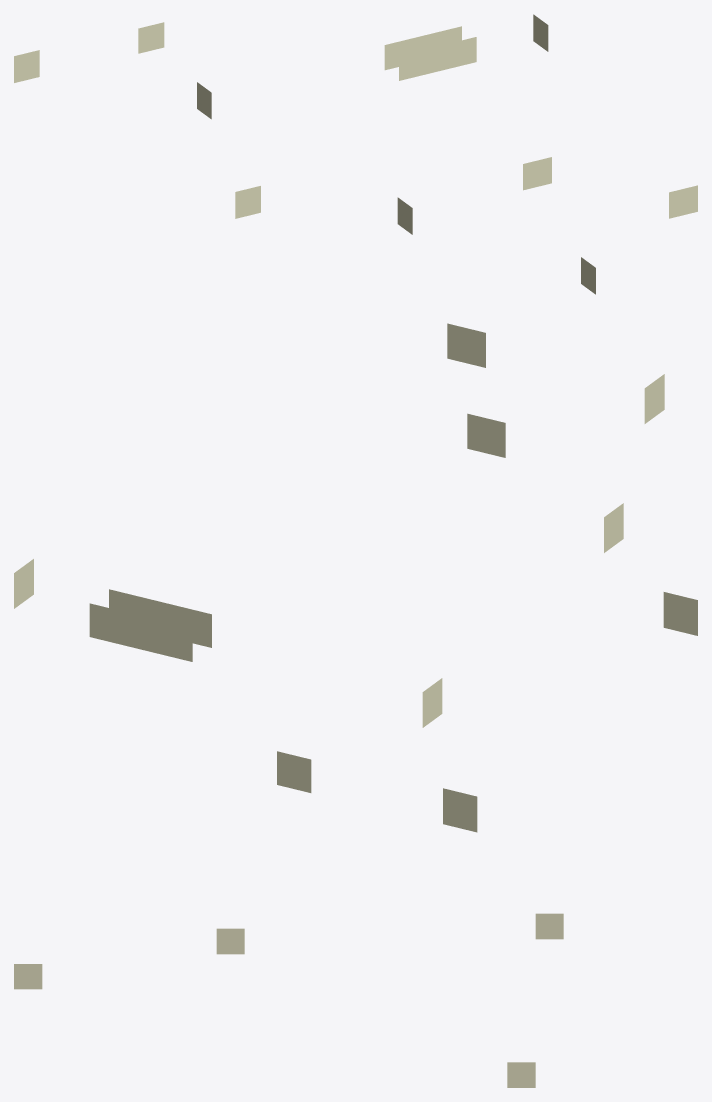
File: object_23_lev2.glb
The picture shows the model from 3 angles, top to bottom: view 1: azimuth 30°, elevation 25°; view 2: azimuth 150°, elevation 25°; view 3: azimuth 270°, elevation 25°; orthographic projection. The views are drawn at different scales.
Parts seen in each view (by area): view 1: object_23_lev2; view 2: object_23_lev2; view 3: object_23_lev2.
Boxes of the visible parts, x1,y1,x2,y2 form: object_23_lev2: (14, 14, 697, 294); object_23_lev2: (14, 323, 697, 832); object_23_lev2: (14, 913, 563, 1087).
Bounding box in the file's own units: 46.49 × 5.61 × 67.1.
